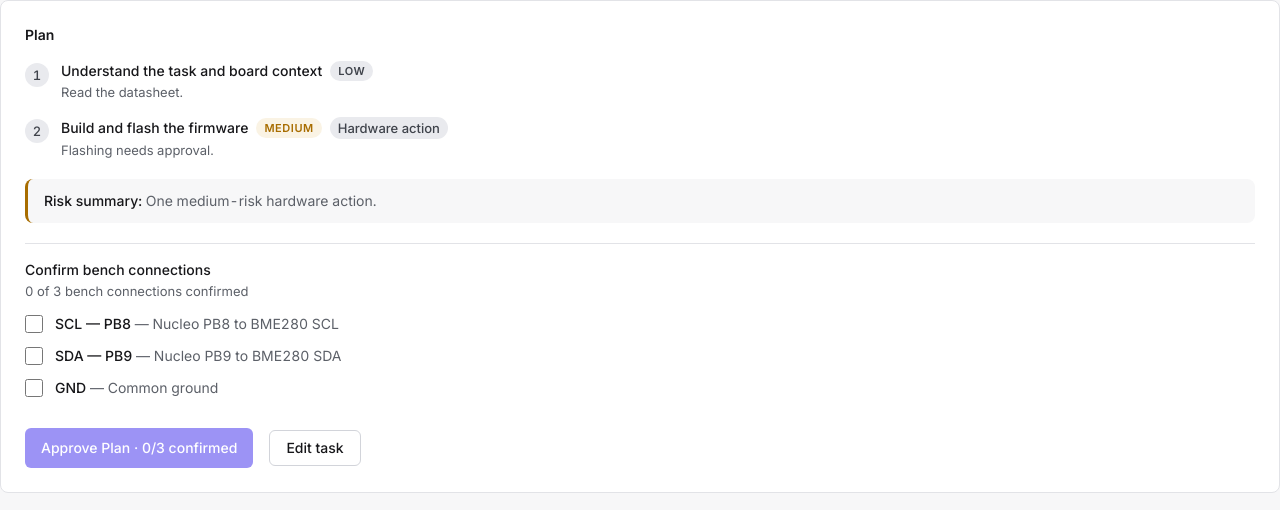
visible safety gate (Sprint 7 P0) › shows the live progress line and updates it as lines are confirmed
Expected: the text "0 of 3 bench connections confirmed" is shown, [25,283,248,299]
Click the checkbox labelled "SCL — PB8 — Nucleo PB8 to BME280 SCL": (34, 324) [25,315,43,333]
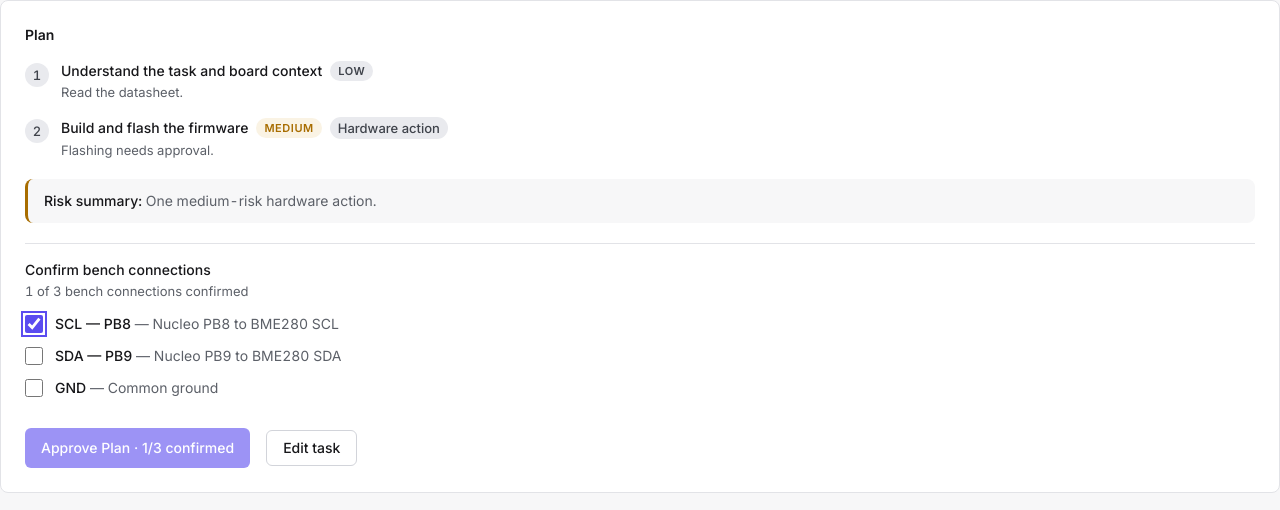
Now the text "1 of 3 bench connections confirmed" is shown, box [25,283,248,299]
Click the checkbox labelled "SDA — PB9 — Nucleo PB9 to BME280 SDA": (34, 356) [25,347,43,365]
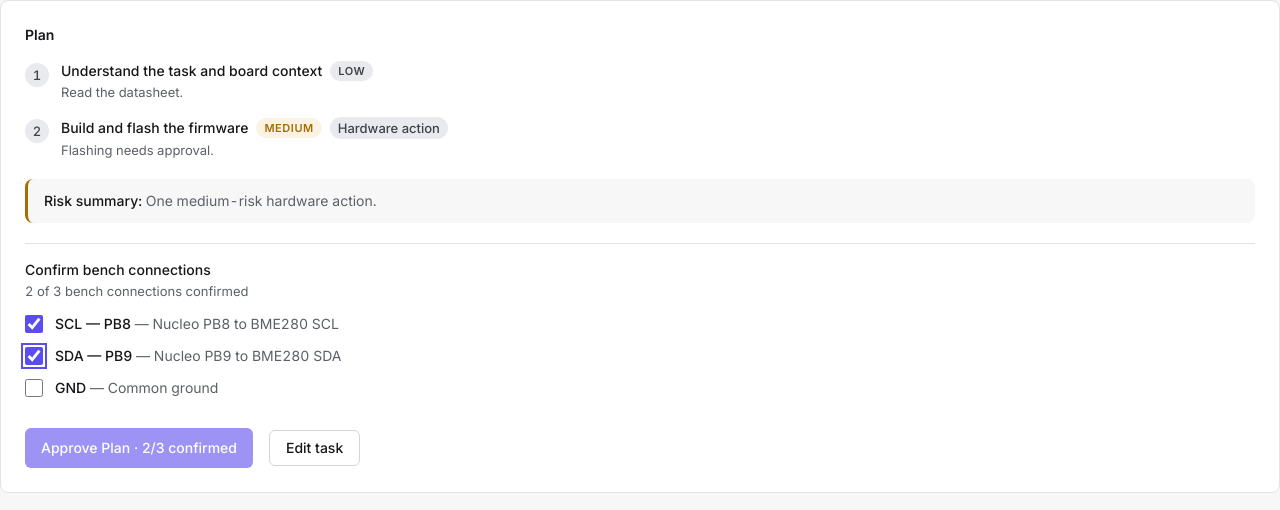
Click the checkbox labelled "GND — Common ground": (34, 388) [25,379,43,397]
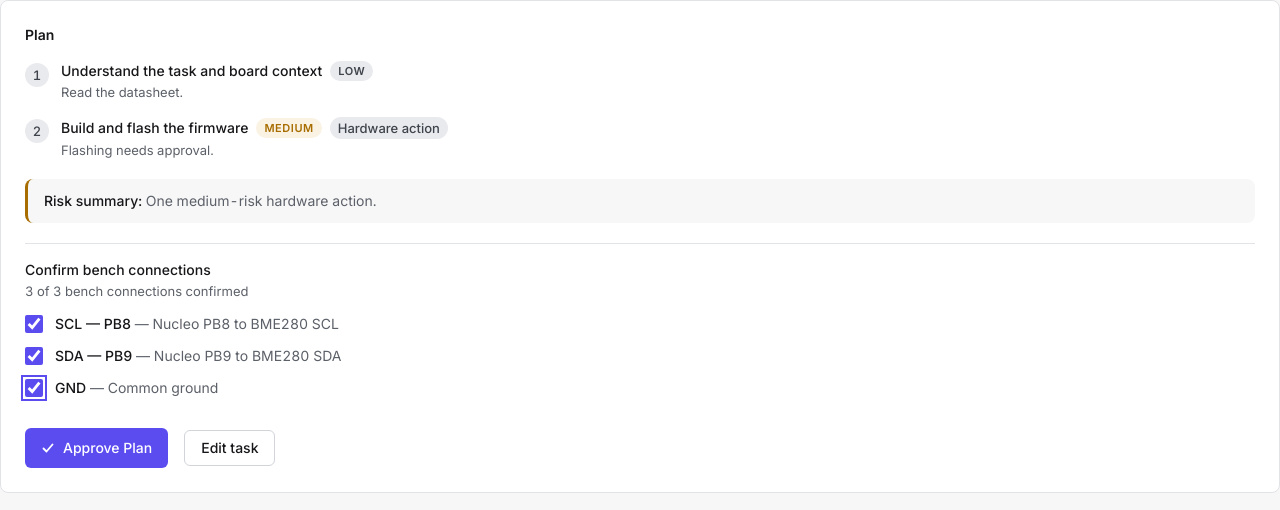
Now the text "3 of 3 bench connections confirmed" is shown, box [25,283,248,299]
